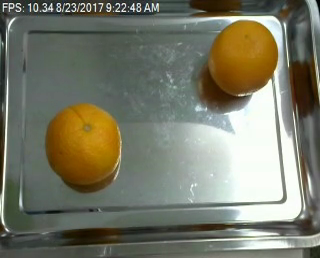Orange: (45, 104, 121, 186), (208, 18, 279, 97)
